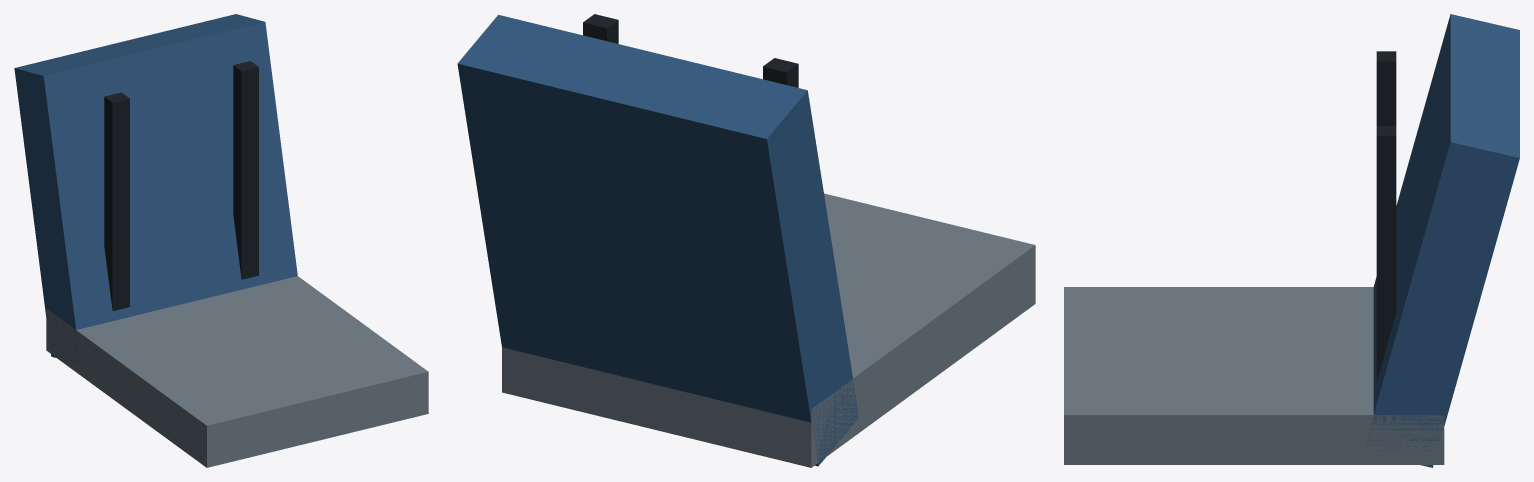
The model's file is orion_cm.cutaway.seat_03.glb.
3 views of the same model, side by side, from view 1: azimuth 30°, elevation 25°; view 2: azimuth 150°, elevation 25°; view 3: azimuth 270°, elevation 25° (orthographic). The views are drawn at different scales.
Parts seen in each view (by area): view 1: orion_cm.cutaway.seat_03.mesh_Blue_equipment_marking, orion_cm.cutaway.seat_03.mesh_Machined_steel, orion_cm.cutaway.seat_03.mesh_Carbon_composite; view 2: orion_cm.cutaway.seat_03.mesh_Blue_equipment_marking, orion_cm.cutaway.seat_03.mesh_Machined_steel, orion_cm.cutaway.seat_03.mesh_Carbon_composite; view 3: orion_cm.cutaway.seat_03.mesh_Machined_steel, orion_cm.cutaway.seat_03.mesh_Blue_equipment_marking, orion_cm.cutaway.seat_03.mesh_Carbon_composite.
Part boxes in pixels (x1=…): orion_cm.cutaway.seat_03.mesh_Blue_equipment_marking: x1=14, y1=14, x2=297, y2=363; orion_cm.cutaway.seat_03.mesh_Machined_steel: x1=46, y1=276, x2=428, y2=467; orion_cm.cutaway.seat_03.mesh_Carbon_composite: x1=104, y1=61, x2=258, y2=310; orion_cm.cutaway.seat_03.mesh_Blue_equipment_marking: x1=457, y1=15, x2=858, y2=466; orion_cm.cutaway.seat_03.mesh_Machined_steel: x1=502, y1=193, x2=1035, y2=467; orion_cm.cutaway.seat_03.mesh_Carbon_composite: x1=583, y1=14, x2=798, y2=87; orion_cm.cutaway.seat_03.mesh_Machined_steel: x1=1064, y1=287, x2=1444, y2=464; orion_cm.cutaway.seat_03.mesh_Blue_equipment_marking: x1=1363, y1=14, x2=1519, y2=467; orion_cm.cutaway.seat_03.mesh_Carbon_composite: x1=1376, y1=51, x2=1396, y2=381.
Size of the model in its own units: 0.55 by 0.6523 by 0.8271.
